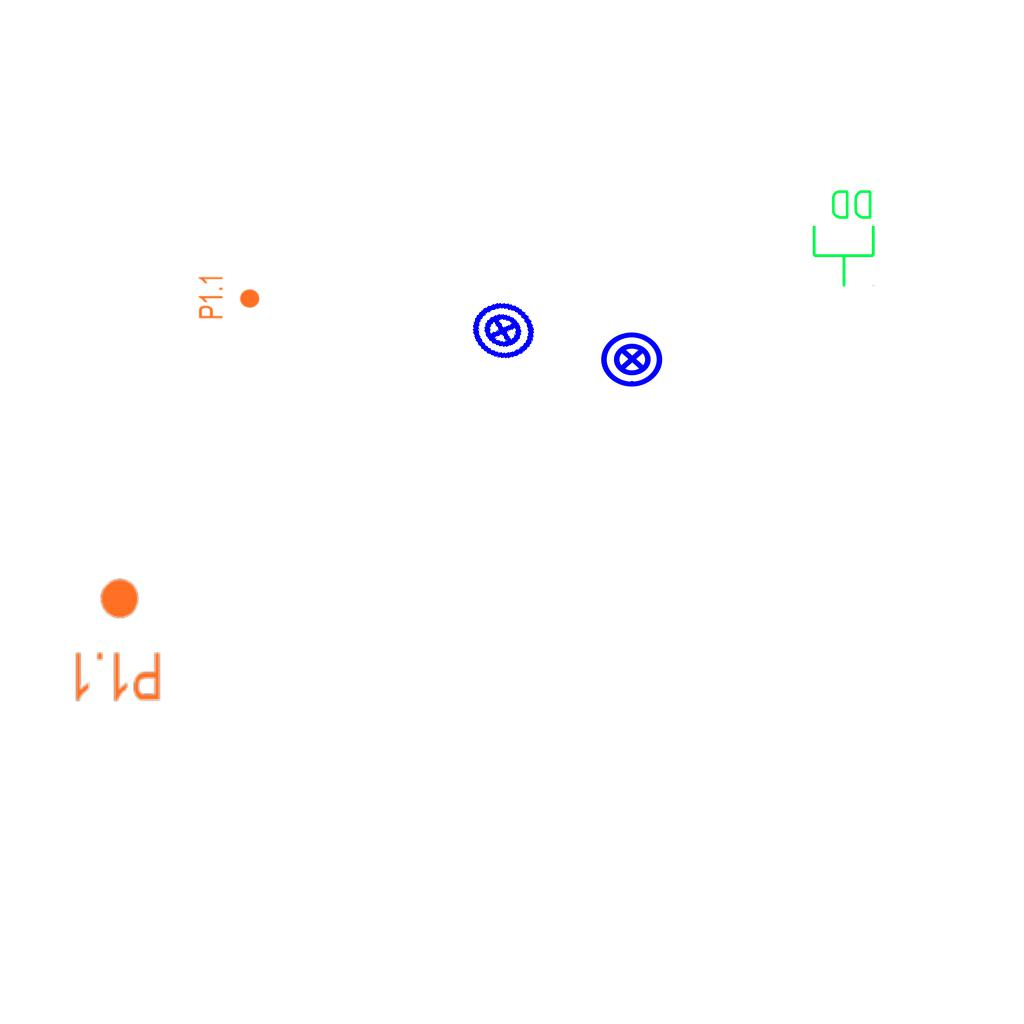Datenanschluss_zweifach: (810, 186, 879, 289)
Downlight_LED_Einbauleuchten_Flur: (70, 576, 163, 704), (197, 274, 261, 320)
Taster_beleuchtet: (462, 290, 544, 372), (599, 326, 665, 392)
